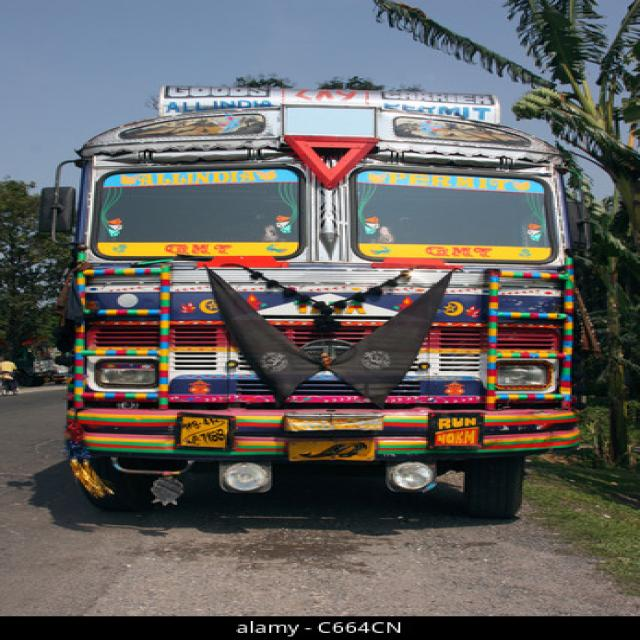truck: (59, 87, 585, 520)
